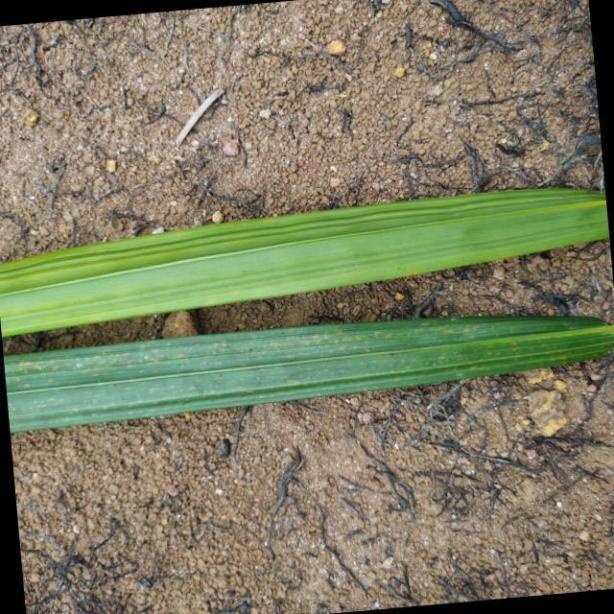nitrogen: (0, 189, 614, 436)
